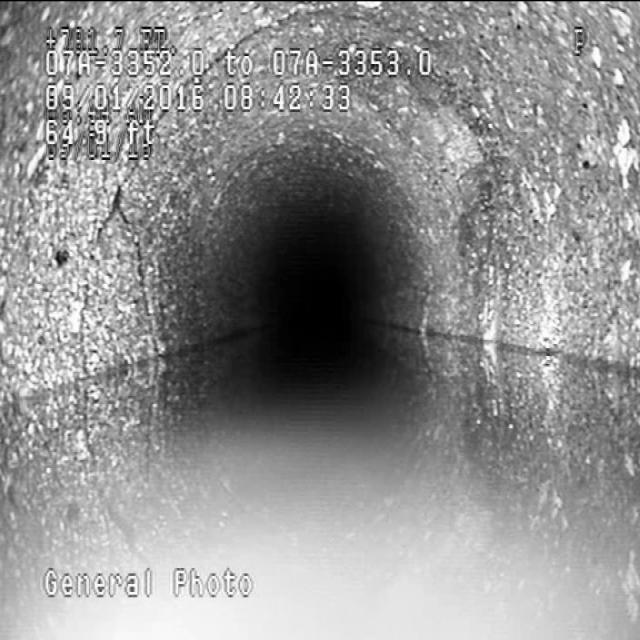Crack: (115, 201, 173, 357)
